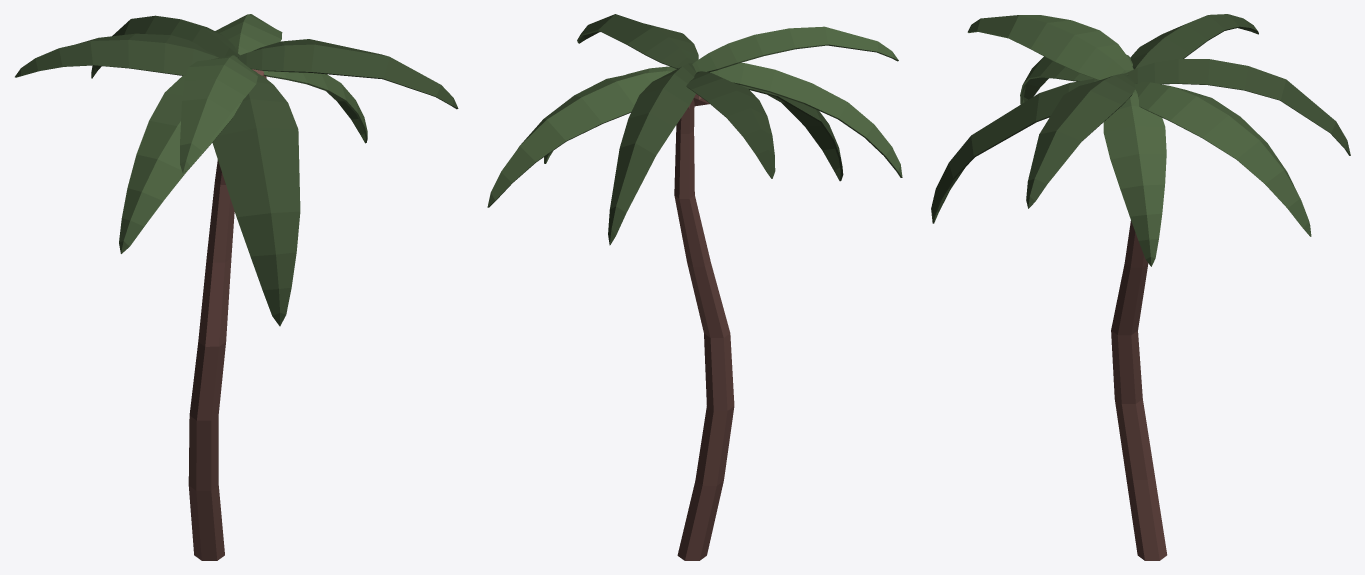
The model's file is palm-4.glb.
The picture shows the model from 3 angles, left to right: view 1: azimuth 30°, elevation 25°; view 2: azimuth 150°, elevation 25°; view 3: azimuth 270°, elevation 25°; orthographic projection. The views are drawn at different scales.
Visible parts, largest first — view 1: PalmTree_4; view 2: PalmTree_4; view 3: PalmTree_4.
Boxes of the visible parts, <box> form: PalmTree_4: <box>15,14,458,560</box>; PalmTree_4: <box>487,14,902,560</box>; PalmTree_4: <box>931,14,1350,560</box>.
Size of the model in its own units: 2.34 by 3.47 by 2.59.
